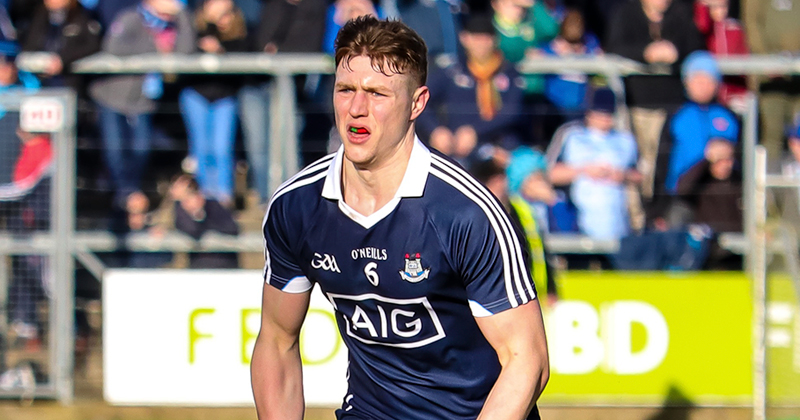player: (242, 11, 548, 407)
